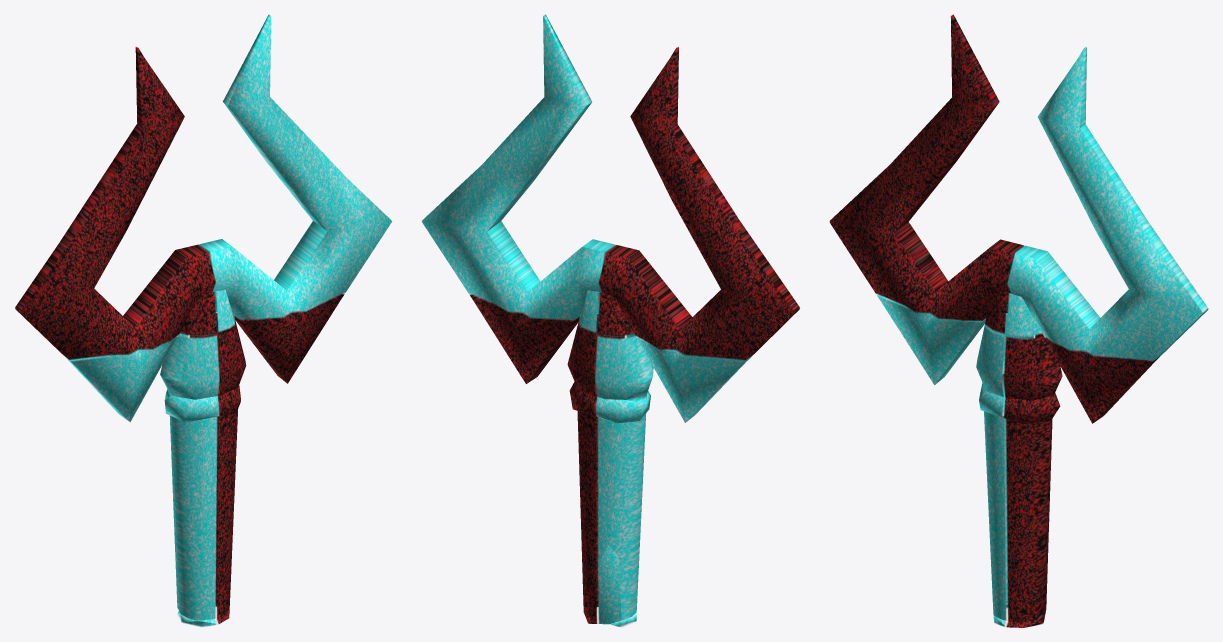
The picture shows the model from 3 angles, left to right: view 1: azimuth 30°, elevation 25°; view 2: azimuth 150°, elevation 25°; view 3: azimuth 330°, elevation 25°; orthographic projection.
Visible parts, largest first — view 1: SM_ZamMage_StaffHead_LowPoly_LOD0; view 2: SM_ZamMage_StaffHead_LowPoly_LOD0; view 3: SM_ZamMage_StaffHead_LowPoly_LOD0.
Boxes of the visible parts, x1=… form: SM_ZamMage_StaffHead_LowPoly_LOD0: x1=15, y1=14, x2=392, y2=626; SM_ZamMage_StaffHead_LowPoly_LOD0: x1=422, y1=14, x2=799, y2=626; SM_ZamMage_StaffHead_LowPoly_LOD0: x1=829, y1=14, x2=1208, y2=627.
Bounding box in the file's own units: 0.5313 × 0.7975 × 0.0827.
Materials: 1 (1 with a texture image).
